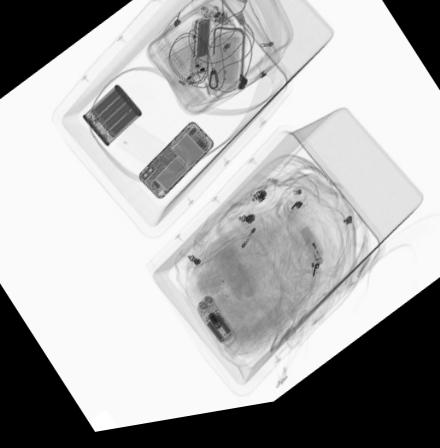Lighter: (297, 232, 327, 277)
